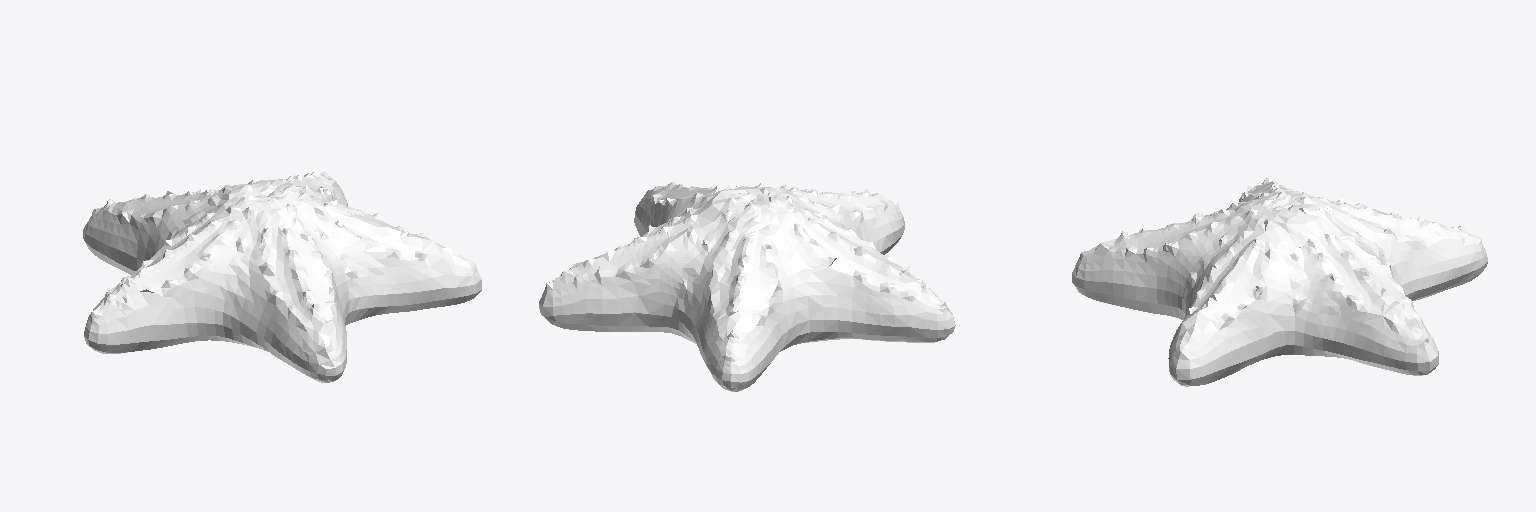
The model's file is criminy.obj.
3 views of the same model, side by side, from view 1: azimuth 30°, elevation 25°; view 2: azimuth 150°, elevation 25°; view 3: azimuth 270°, elevation 25° (orthographic).
Visible parts, largest first — view 1: StarfishHighres; view 2: StarfishHighres; view 3: StarfishHighres.
Part boxes in pixels (x1,y1,x2,y2): StarfishHighres: (83, 171, 481, 382); StarfishHighres: (539, 182, 955, 391); StarfishHighres: (1072, 177, 1487, 386).
Size of the model in its own units: 186 by 61.06 by 189.